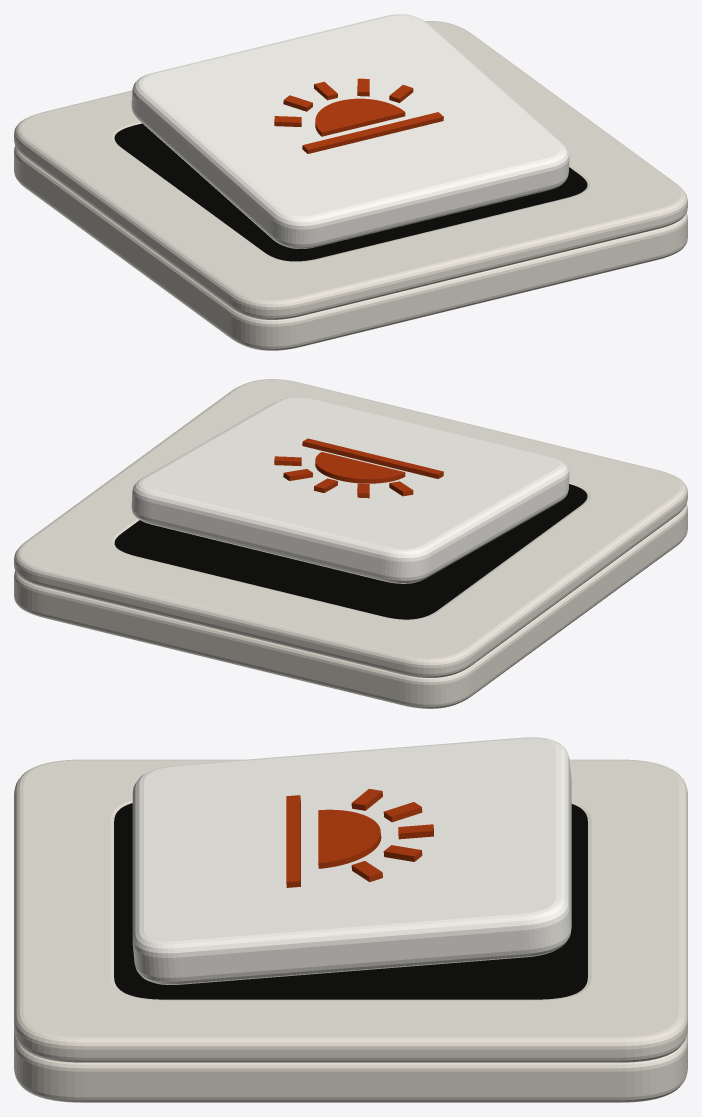
Rendered from interruptor-de-pared-tarde.obj.
The picture shows the model from 3 angles, top to bottom: view 1: azimuth 30°, elevation 25°; view 2: azimuth 150°, elevation 25°; view 3: azimuth 270°, elevation 25°; orthographic projection. The views are drawn at different scales.
Parts seen in each view (by area): view 1: tecla, marco, placa-base, mecanismo, tarde-sol, tarde-horizonte; view 2: marco, tecla, placa-base, mecanismo, tarde-sol, tarde-horizonte; view 3: marco, tecla, placa-base, mecanismo, tarde-sol, tarde-horizonte.
Boxes of the visible parts, x1=… form: tecla: x1=131, y1=14, x2=569, y2=248; marco: x1=14, y1=21, x2=687, y2=319; placa-base: x1=14, y1=146, x2=687, y2=350; mecanismo: x1=114, y1=123, x2=587, y2=261; tarde-sol: x1=315, y1=98, x2=405, y2=136; tarde-horizonte: x1=302, y1=112, x2=443, y2=153; marco: x1=14, y1=379, x2=687, y2=677; tecla: x1=131, y1=397, x2=569, y2=583; placa-base: x1=14, y1=504, x2=687, y2=708; mecanismo: x1=114, y1=484, x2=587, y2=619; tarde-sol: x1=315, y1=452, x2=405, y2=483; tarde-horizonte: x1=302, y1=438, x2=443, y2=478; marco: x1=14, y1=759, x2=687, y2=1062; tecla: x1=132, y1=737, x2=571, y2=984; placa-base: x1=14, y1=1030, x2=687, y2=1102; mecanismo: x1=114, y1=803, x2=587, y2=999; tarde-sol: x1=318, y1=809, x2=381, y2=868; tarde-horizonte: x1=286, y1=795, x2=300, y2=887.
Bounding box in the file's own units: 0.086 × 0.0197 × 0.086.
